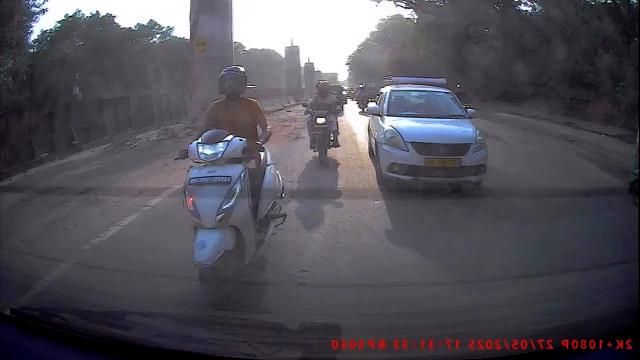motorcycle_with_helmet: (177, 63, 286, 287), (303, 79, 344, 161)
